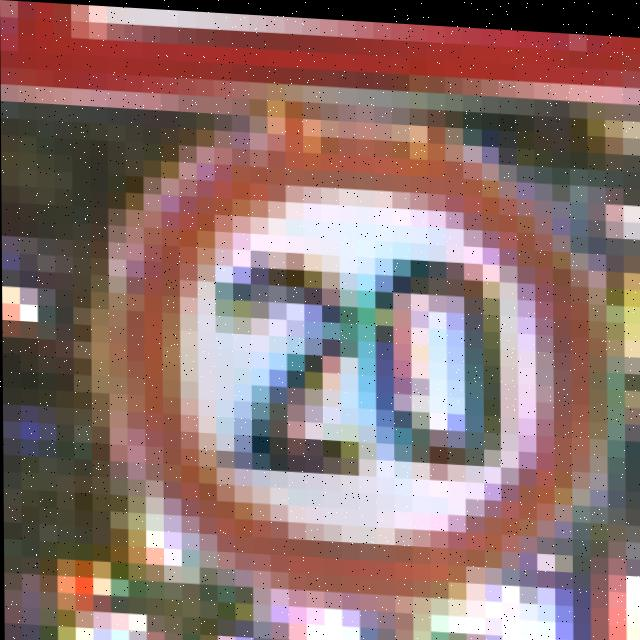speed_limit_20: (111, 126, 589, 620)
